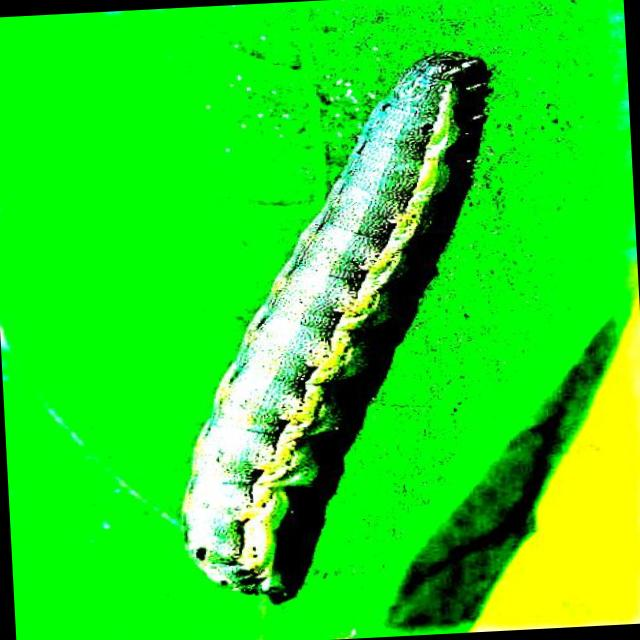Armyworm: (94, 40, 561, 621)
